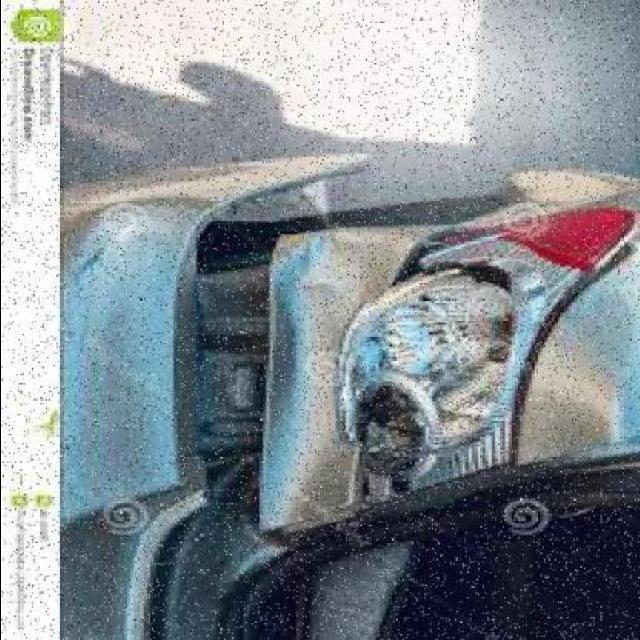Headlight-Damage: (345, 225, 571, 478)
front-bumper-dent: (43, 165, 309, 639)
